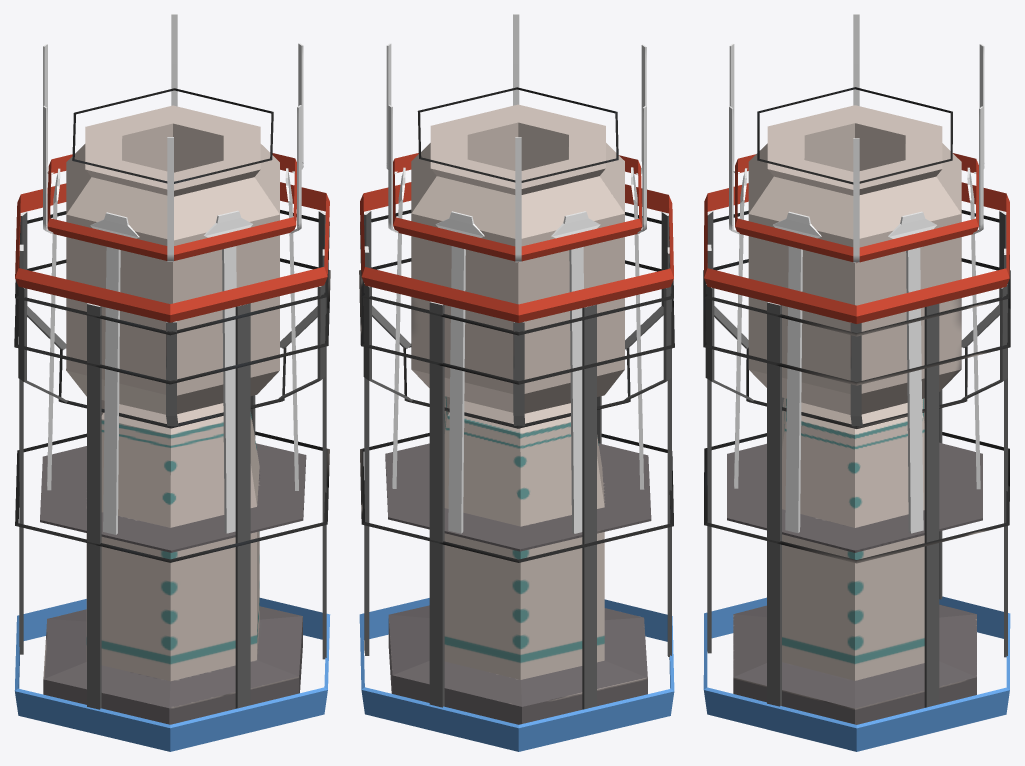
The model's file is centerTower_fbx.fbx.
3 renders of one model, left to right at view 1: azimuth 30°, elevation 25°; view 2: azimuth 150°, elevation 25°; view 3: azimuth 270°, elevation 25°, orthographic.
Parts seen in each view (by area): view 1: CenterTower; view 2: CenterTower; view 3: CenterTower.
Part boxes in pixels (box(x1,y1,x2,y2)): CenterTower: box(14, 14, 330, 751); CenterTower: box(359, 14, 674, 751); CenterTower: box(703, 14, 1010, 751).
Size of the model in its own units: 1301 by 2374 by 1099.
Materials: 1 (1 with a texture image).
